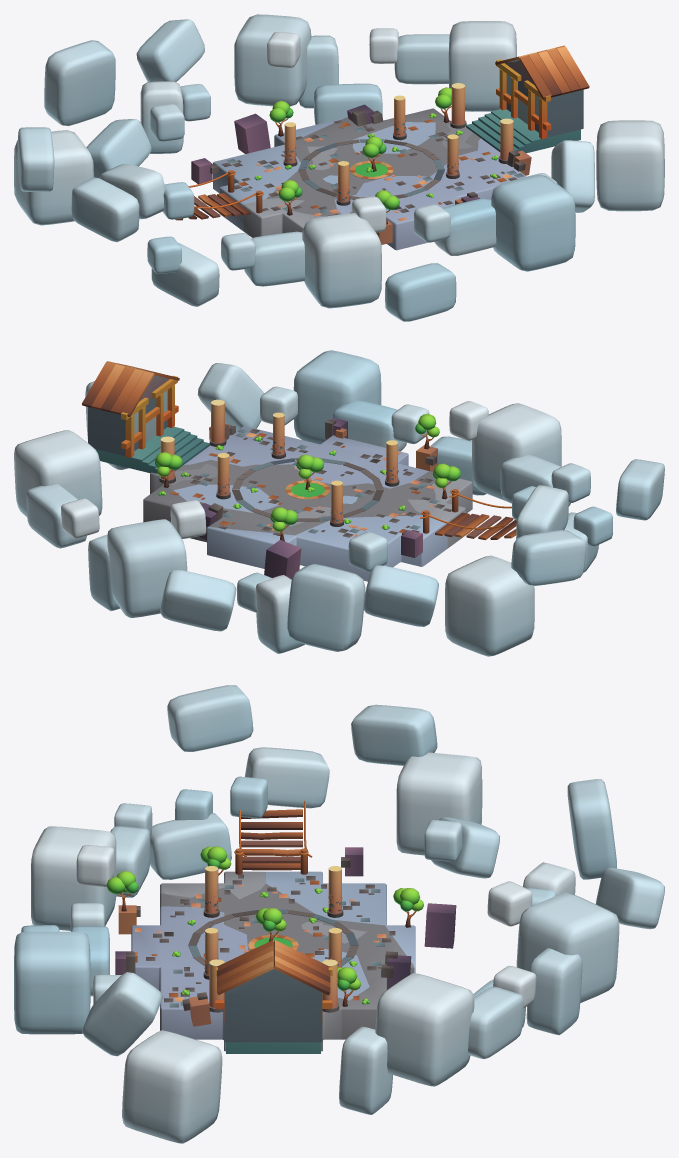
The model's file is Location_NEW_TEST.fbx.
The picture shows the model from 3 angles, top to bottom: view 1: azimuth 30°, elevation 25°; view 2: azimuth 150°, elevation 25°; view 3: azimuth 270°, elevation 25°; orthographic projection. The views are drawn at different scales.
Visible parts, largest first — view 1: Plane, Cube.023, Cube.026, Cube.040, Cube.032, Cube.139, Cube.031, Cube.046, Cube.028, Cube.137, Cube.037, Cube.025 (+32 smaller); view 2: Plane, Cube.046, Cube.032, Cube.139, Cube.023, Cube.026, Cube.031, Cube.037, Cube.047, Cube.138, Cube.041, Cube.137 (+30 smaller); view 3: Plane, Cube.040, Cube.031, Cube.023, Cube.032, Cube.046, Cube.010, Cube.026, Cube.137, Cube.138, Cube.041, Cube.043 (+23 smaller).
Part boxes in pixels (<box>): Plane: <box>213,108,526,250</box>; Cube.023: <box>491,174,575,271</box>; Cube.026: <box>302,213,381,308</box>; Cube.040: <box>596,120,664,211</box>; Cube.032: <box>234,14,311,106</box>; Cube.139: <box>44,40,115,126</box>; Cube.031: <box>448,21,516,111</box>; Cube.046: <box>14,130,93,225</box>; Cube.028: <box>385,263,456,321</box>; Cube.137: <box>71,177,139,241</box>; Cube.037: <box>136,19,204,81</box>; Cube.025: <box>244,231,304,286</box>; Plane: <box>143,426,472,581</box>; Cube.046: <box>445,555,534,656</box>; Cube.032: <box>107,519,187,617</box>; Cube.139: <box>287,564,365,651</box>; Cube.023: <box>293,350,381,444</box>; Cube.026: <box>472,403,561,501</box>; Cube.031: <box>14,430,102,516</box>; Cube.037: <box>160,569,236,631</box>; Cube.047: <box>364,565,438,626</box>; Cube.138: <box>511,530,586,585</box>; Cube.041: <box>197,363,264,430</box>; Cube.137: <box>616,459,664,520</box>; Plane: <box>131,871,415,1051</box>; Cube.040: <box>122,1030,222,1143</box>; Cube.031: <box>375,973,474,1086</box>; Cube.023: <box>14,931,90,1034</box>; Cube.032: <box>516,892,619,1002</box>; Cube.046: <box>396,752,482,855</box>; Cube.010: <box>224,969,322,1042</box>; Cube.026: <box>31,826,116,930</box>; Cube.137: <box>167,685,253,751</box>; Cube.138: <box>351,704,437,765</box>; Cube.041: <box>82,972,162,1056</box>; Cube.043: <box>244,747,329,808</box>.
Bounding box in the file's own units: 30.11 × 6.8 × 25.72.
